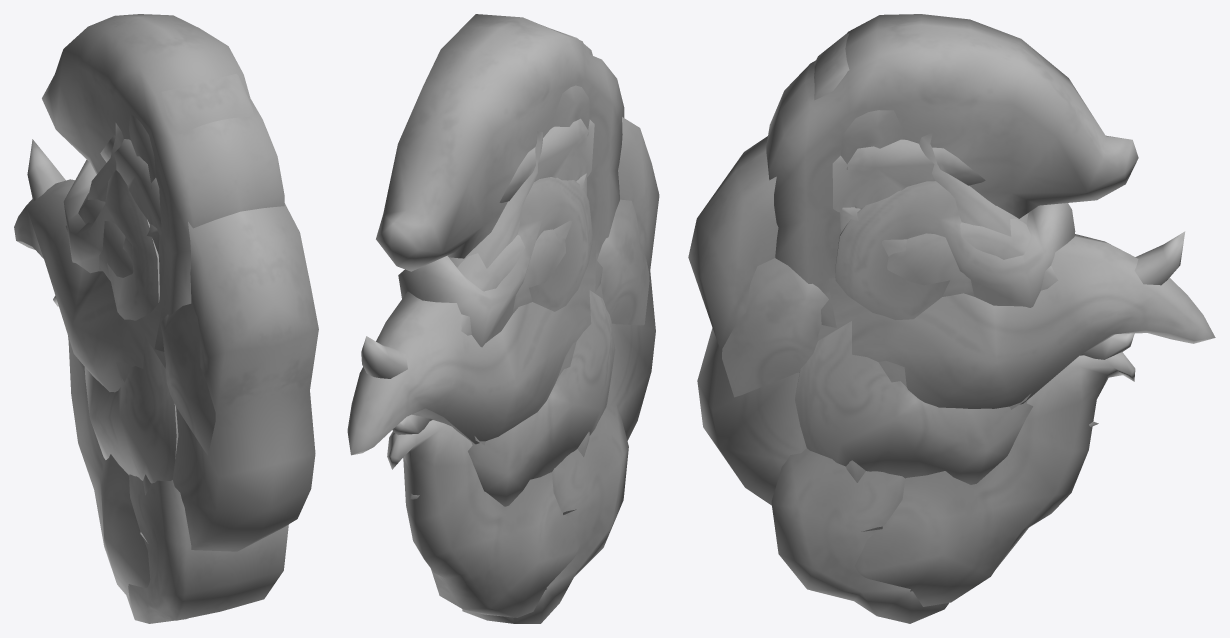
The model's file is zhexingcuishan_source_variant_input_01.glb.
3 views of the same model, side by side, from view 1: azimuth 30°, elevation 25°; view 2: azimuth 150°, elevation 25°; view 3: azimuth 270°, elevation 25° (orthographic). The views are drawn at different scales.
Visible parts, largest first — view 1: wp_saber_xingtian; view 2: wp_saber_xingtian; view 3: wp_saber_xingtian.
Boxes of the visible parts, x1,y1,x2,y2 form: wp_saber_xingtian: (14, 14, 318, 623); wp_saber_xingtian: (347, 14, 659, 623); wp_saber_xingtian: (688, 14, 1215, 623).
Bounding box in the file's own units: 0.0653 × 0.3072 × 0.2506.
1 material, 1 textured.
